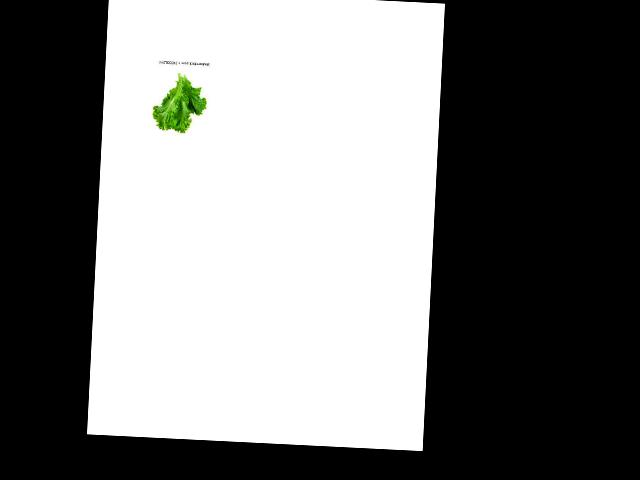lettuce: (151, 68, 209, 135)
